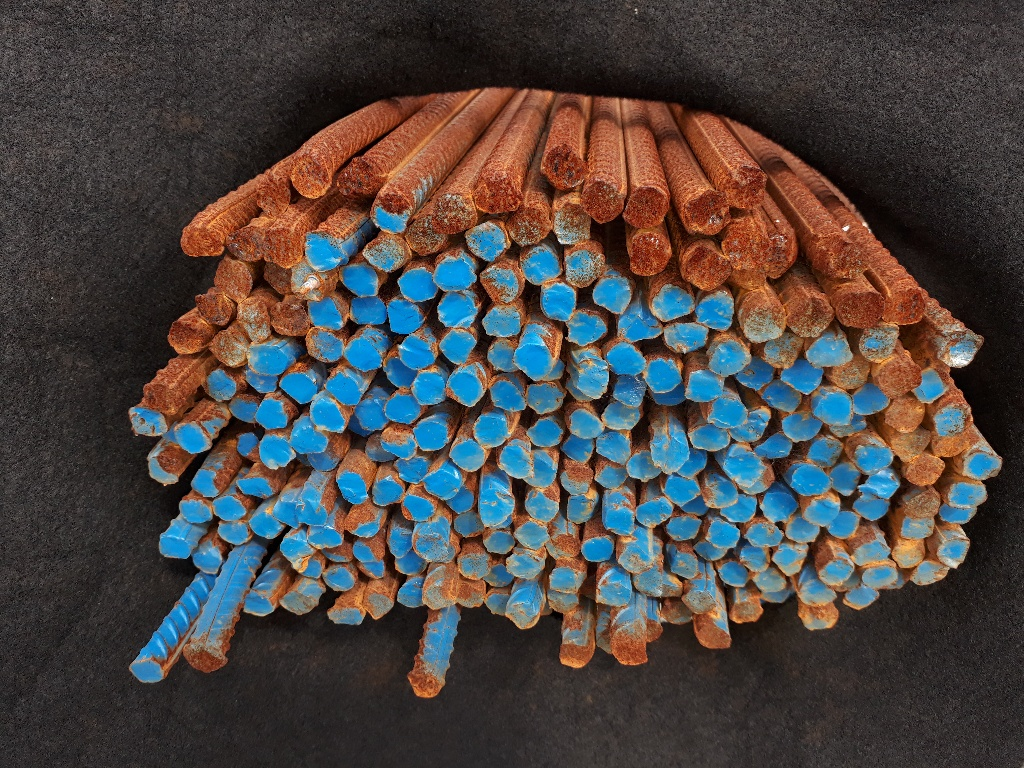dipstick: (542, 144, 586, 188), (685, 249, 729, 291), (563, 241, 603, 287), (787, 298, 833, 337), (291, 154, 330, 199), (625, 187, 667, 228), (687, 192, 728, 234), (834, 292, 883, 327), (741, 303, 786, 341), (466, 222, 507, 263), (630, 234, 670, 276), (727, 166, 765, 210), (405, 215, 445, 256), (336, 160, 381, 196), (876, 360, 921, 396), (264, 228, 304, 268), (447, 367, 487, 407), (582, 183, 623, 222), (508, 207, 551, 244), (721, 233, 769, 266), (828, 242, 870, 279), (306, 229, 342, 272), (371, 193, 410, 232), (437, 194, 477, 232), (209, 328, 247, 368), (363, 239, 408, 272), (652, 287, 695, 321), (522, 248, 561, 285), (555, 204, 591, 244), (214, 261, 250, 301), (438, 292, 478, 328), (237, 301, 271, 343), (435, 259, 477, 293), (883, 290, 925, 324), (290, 259, 323, 302), (939, 335, 983, 367), (345, 335, 383, 372), (291, 417, 328, 455), (412, 523, 450, 560), (305, 328, 345, 363), (356, 388, 388, 431), (808, 335, 851, 367), (481, 268, 519, 304), (593, 277, 631, 313), (515, 344, 551, 382), (652, 439, 690, 475), (861, 325, 899, 361), (476, 181, 520, 212), (168, 321, 209, 354), (128, 407, 170, 439), (731, 409, 769, 444), (180, 228, 224, 258), (762, 382, 803, 414), (398, 268, 434, 304), (541, 283, 576, 320), (438, 330, 476, 364), (182, 644, 228, 672), (567, 313, 606, 346), (709, 342, 749, 374), (791, 465, 831, 497), (227, 226, 263, 261), (727, 450, 762, 486), (256, 181, 290, 218), (272, 302, 309, 336), (481, 490, 515, 527), (645, 358, 682, 392), (885, 399, 923, 432), (340, 264, 379, 296), (685, 370, 724, 402), (664, 324, 708, 352), (699, 294, 733, 330), (400, 335, 437, 368), (247, 344, 286, 375), (260, 436, 295, 470), (618, 316, 662, 343), (769, 235, 796, 279), (526, 383, 564, 414), (607, 344, 645, 375), (934, 403, 972, 434), (383, 350, 412, 390), (196, 292, 231, 325), (308, 297, 343, 330), (389, 298, 422, 333), (281, 371, 316, 404), (176, 423, 212, 455), (490, 380, 526, 412), (450, 439, 486, 471), (765, 336, 802, 367), (579, 359, 608, 398), (906, 457, 945, 486), (310, 398, 344, 431), (143, 383, 178, 415), (761, 492, 796, 524), (816, 393, 852, 424), (917, 368, 950, 401), (596, 432, 631, 463), (736, 359, 772, 389), (783, 413, 820, 442), (861, 471, 899, 499), (482, 308, 521, 335), (424, 470, 459, 500), (834, 358, 869, 388), (852, 386, 887, 416), (350, 298, 387, 326), (532, 450, 559, 488), (964, 452, 1002, 479), (798, 606, 839, 631), (614, 375, 646, 407), (412, 373, 445, 404), (475, 414, 506, 447), (526, 492, 559, 523), (905, 487, 939, 517), (382, 431, 417, 460), (663, 476, 698, 505), (707, 402, 747, 427), (190, 543, 220, 576), (413, 421, 446, 451), (501, 445, 531, 478), (408, 669, 443, 697), (636, 499, 671, 527), (612, 638, 649, 664), (203, 369, 235, 399), (346, 507, 378, 537), (603, 507, 635, 537), (338, 471, 367, 504), (628, 451, 661, 480), (306, 444, 340, 472), (528, 419, 562, 447), (514, 521, 549, 548), (702, 481, 738, 507), (720, 495, 756, 521), (255, 399, 287, 428), (562, 466, 594, 495), (602, 404, 639, 429), (855, 447, 892, 472), (570, 410, 603, 438), (401, 494, 434, 522), (830, 464, 858, 497), (937, 537, 970, 565), (507, 554, 545, 578), (550, 567, 585, 593), (808, 440, 843, 466), (891, 432, 927, 457), (148, 456, 179, 485), (892, 538, 923, 567), (618, 545, 651, 572), (820, 558, 853, 585), (691, 427, 729, 450), (949, 484, 987, 507), (191, 468, 220, 498), (387, 396, 419, 423), (488, 339, 515, 371), (129, 660, 165, 684), (597, 582, 631, 607), (757, 433, 791, 458), (263, 264, 291, 294), (567, 495, 595, 525), (733, 265, 768, 289), (828, 511, 859, 538), (911, 562, 949, 584), (843, 589, 881, 611), (595, 463, 627, 489), (807, 498, 839, 524), (179, 499, 212, 524), (548, 534, 581, 559), (853, 543, 890, 565), (372, 478, 402, 505), (158, 535, 190, 560), (933, 435, 971, 456), (505, 604, 538, 628), (665, 518, 701, 540), (730, 600, 763, 624), (852, 541, 888, 563), (679, 449, 707, 477), (423, 586, 457, 609), (235, 477, 274, 497), (249, 513, 279, 539), (298, 501, 328, 527), (353, 537, 384, 562), (559, 643, 590, 668), (708, 522, 739, 547), (854, 499, 889, 521), (395, 458, 427, 482), (273, 501, 301, 528), (747, 526, 783, 547), (633, 571, 662, 597), (775, 549, 805, 574), (582, 537, 613, 561), (800, 586, 837, 606), (324, 568, 356, 591), (308, 528, 343, 549), (458, 582, 486, 608), (281, 592, 314, 614), (698, 627, 731, 649), (364, 593, 393, 618), (214, 498, 245, 521), (562, 439, 593, 462), (459, 555, 490, 578), (862, 567, 897, 587), (718, 563, 747, 587), (281, 538, 314, 559), (217, 522, 247, 545), (389, 528, 412, 558), (940, 505, 978, 523), (684, 591, 715, 613), (455, 512, 481, 538), (230, 396, 255, 423), (661, 600, 689, 624), (237, 432, 260, 461), (485, 531, 514, 554), (788, 519, 819, 540), (902, 517, 933, 538), (741, 547, 768, 571), (394, 554, 426, 574), (672, 553, 697, 578), (753, 570, 784, 590), (696, 541, 728, 560), (830, 421, 867, 437), (245, 594, 273, 615), (324, 543, 353, 563), (548, 593, 580, 611), (397, 585, 423, 607), (451, 488, 473, 512), (486, 592, 510, 614), (329, 609, 364, 624), (295, 560, 321, 580), (652, 390, 684, 406), (364, 432, 381, 462), (490, 564, 512, 587), (663, 574, 683, 597), (358, 562, 386, 578), (683, 500, 708, 516), (762, 590, 792, 603), (646, 619, 662, 642)
